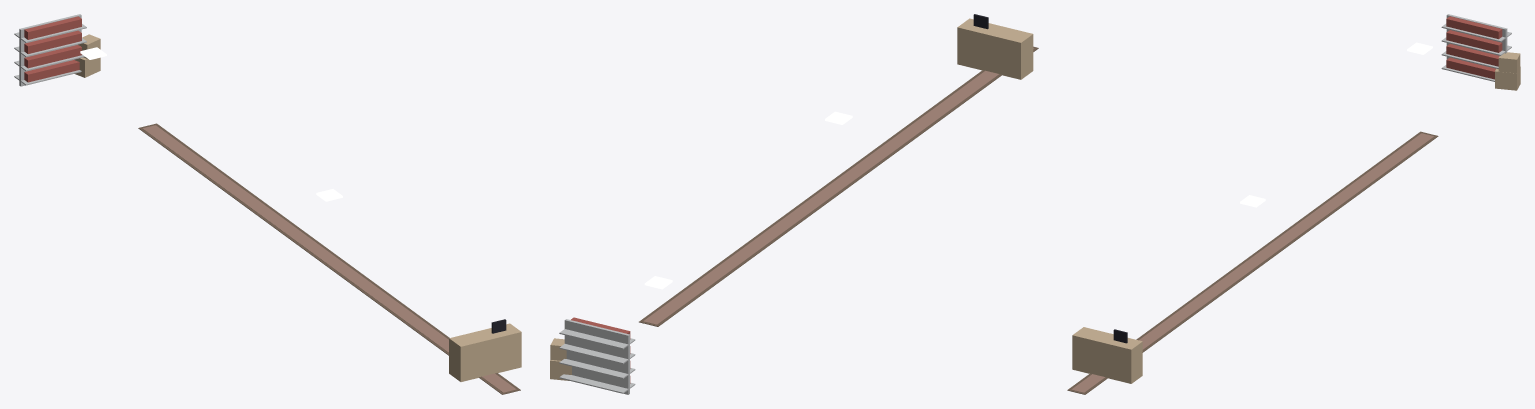
Rendered from fine-s0.glb.
3 renders of one model, left to right at view 1: azimuth 30°, elevation 25°; view 2: azimuth 150°, elevation 25°; view 3: azimuth 330°, elevation 25°, orthographic. The views are drawn at different scales.
Parts seen in each view (by area): view 1: soft-s0, shelving.000, shop-counter.000, cardboard-box.000; view 2: soft-s0, shelving.000, shop-counter.000, cardboard-box.000; view 3: soft-s0, shelving.000, shop-counter.000, cardboard-box.000.
Part boxes in pixels (x1=…): soft-s0: x1=138, y1=123, x2=520, y2=394; shelving.000: x1=14, y1=14, x2=86, y2=86; shop-counter.000: x1=449, y1=319, x2=521, y2=381; cardboard-box.000: x1=74, y1=34, x2=100, y2=77; soft-s0: x1=639, y1=46, x2=1038, y2=326; shelving.000: x1=559, y1=317, x2=635, y2=394; shop-counter.000: x1=957, y1=14, x2=1033, y2=79; cardboard-box.000: x1=550, y1=338, x2=571, y2=380; soft-s0: x1=1067, y1=131, x2=1438, y2=394; shelving.000: x1=1441, y1=14, x2=1511, y2=81; shop-counter.000: x1=1072, y1=327, x2=1142, y2=383; cardboard-box.000: x1=1495, y1=52, x2=1520, y2=90.
Size of the model in its own units: 2.6 by 1.84 by 22.67.
